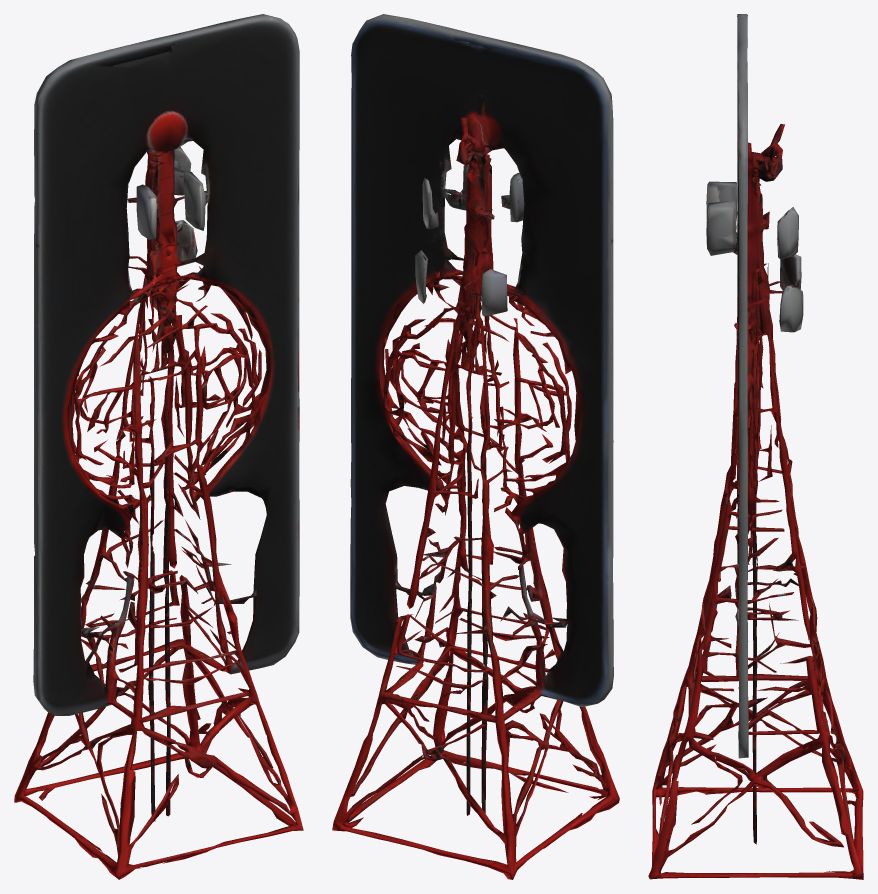
The model's file is أود_طلب_تصمي_0708165000_texture.glb.
3 views of the same model, side by side, from view 1: azimuth 30°, elevation 25°; view 2: azimuth 150°, elevation 25°; view 3: azimuth 270°, elevation 25° (orthographic).
Bounding box in the file's own units: 0.6971 × 2 × 0.4996.
1 material, 1 textured.
